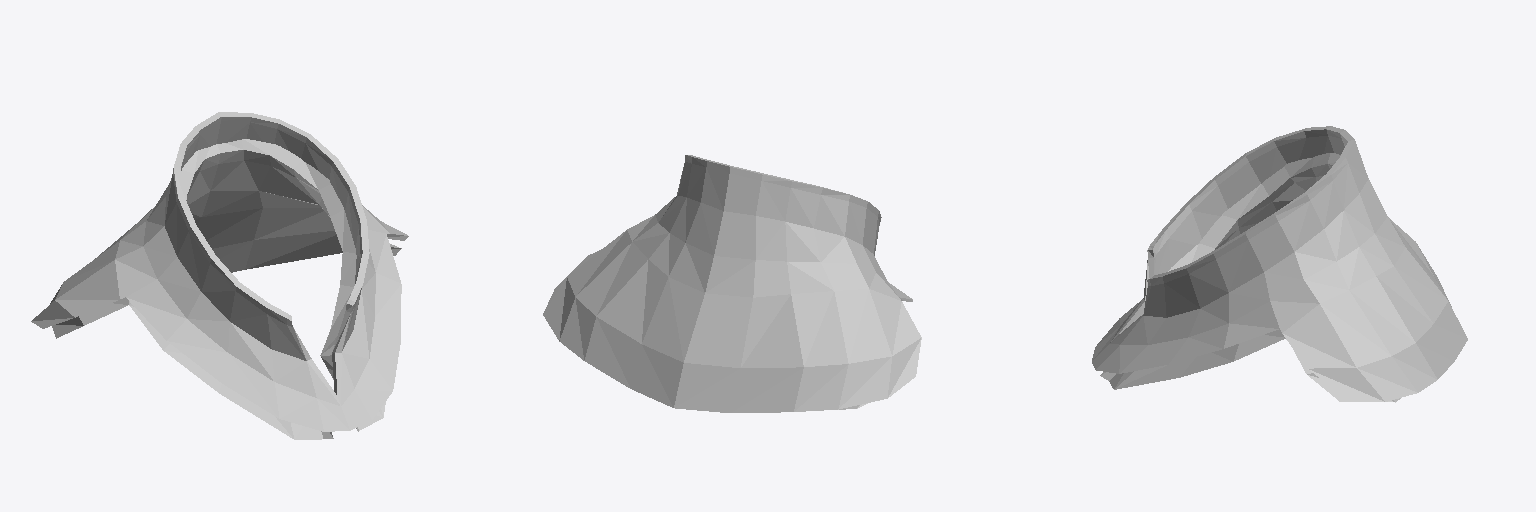
File: cou.obj
3 views of the same model, side by side, from view 1: azimuth 30°, elevation 25°; view 2: azimuth 150°, elevation 25°; view 3: azimuth 270°, elevation 25° (orthographic).
Parts seen in each view (by area): view 1: Soi_SimpleArmor.016_Plane.016, Soi_SimpleArmor.017_Plane.017; view 2: Soi_SimpleArmor.016_Plane.016; view 3: Soi_SimpleArmor.016_Plane.016, Soi_SimpleArmor.017_Plane.017.
Boxes of the visible parts, box(x1,y1,x2,y2) form: Soi_SimpleArmor.016_Plane.016: box(31, 112, 408, 431); Soi_SimpleArmor.017_Plane.017: box(52, 139, 401, 439); Soi_SimpleArmor.016_Plane.016: box(543, 155, 921, 412); Soi_SimpleArmor.016_Plane.016: box(1092, 126, 1467, 401); Soi_SimpleArmor.017_Plane.017: box(1100, 153, 1400, 402).
Size of the model in its own units: 0.2924 by 0.1802 by 0.2641.